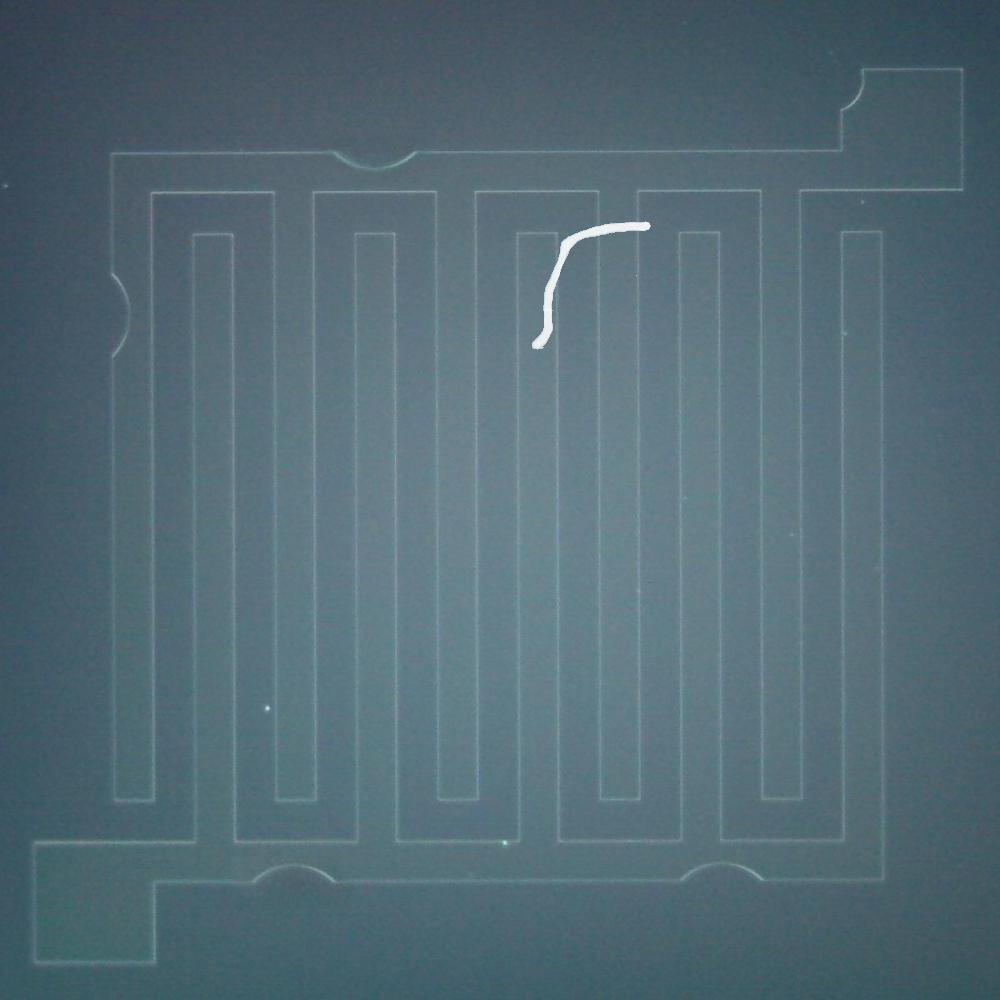curve circuit: (236, 857, 350, 903), (321, 134, 425, 177), (101, 258, 140, 368), (664, 854, 775, 890), (830, 62, 876, 122)
dot: (256, 692, 276, 721)
line: (526, 211, 664, 358)
